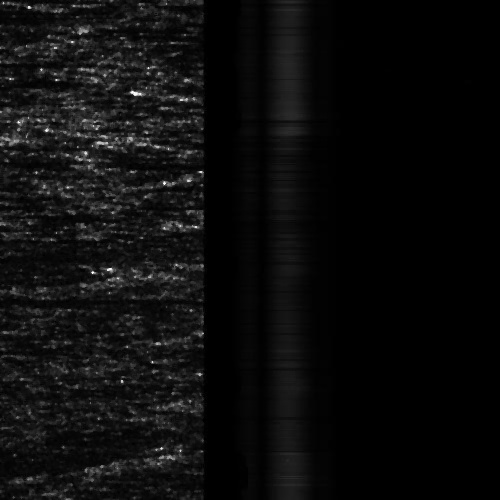shadow: (0, 292, 146, 305), (0, 157, 179, 162)
